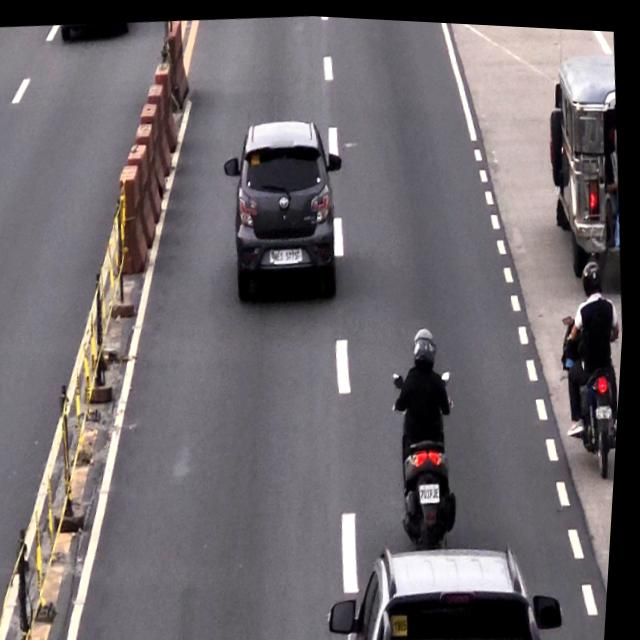Car: (227, 114, 346, 298), (345, 534, 547, 640)
Jeep: (535, 42, 633, 270)
License-Plate: (274, 241, 305, 265), (422, 477, 449, 501)
Motorcycle: (387, 320, 471, 544), (558, 244, 630, 475)
